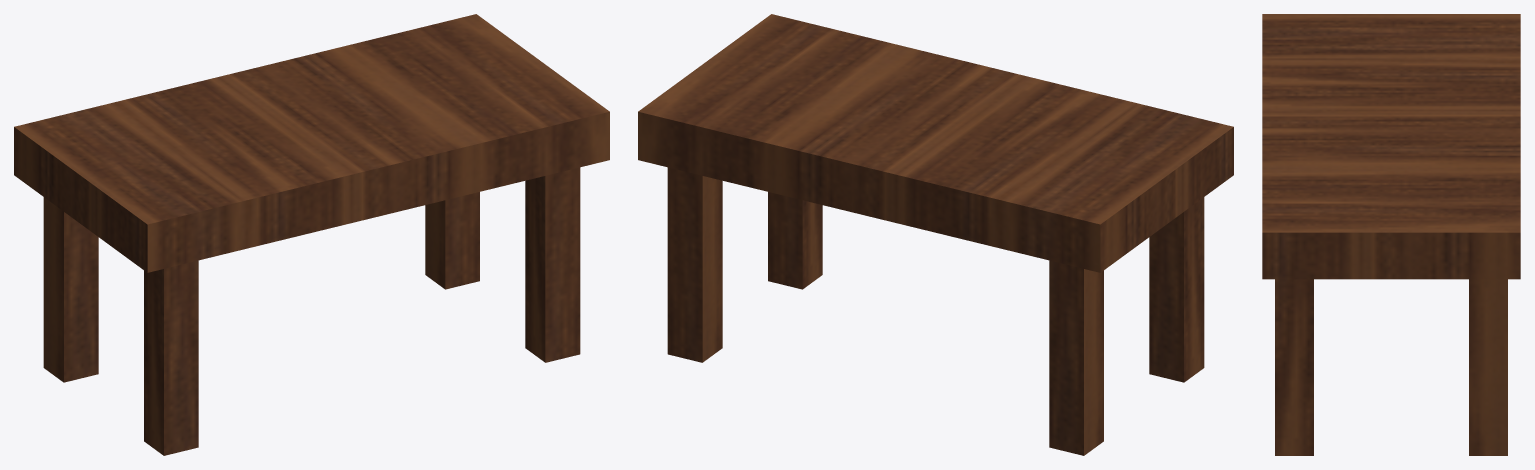
Rendered from table.glb.
The picture shows the model from 3 angles, left to right: view 1: azimuth 30°, elevation 25°; view 2: azimuth 150°, elevation 25°; view 3: azimuth 270°, elevation 25°; orthographic projection. The views are drawn at different scales.
Parts seen in each view (by area): view 1: Table; view 2: Table; view 3: Table.
Part boxes in pixels (x1,y1,x2,y2): Table: [14, 14, 609, 455]; Table: [638, 14, 1233, 455]; Table: [1262, 14, 1520, 455].
Size of the model in its own units: 2 by 1 by 1.
1 material, 1 textured.
